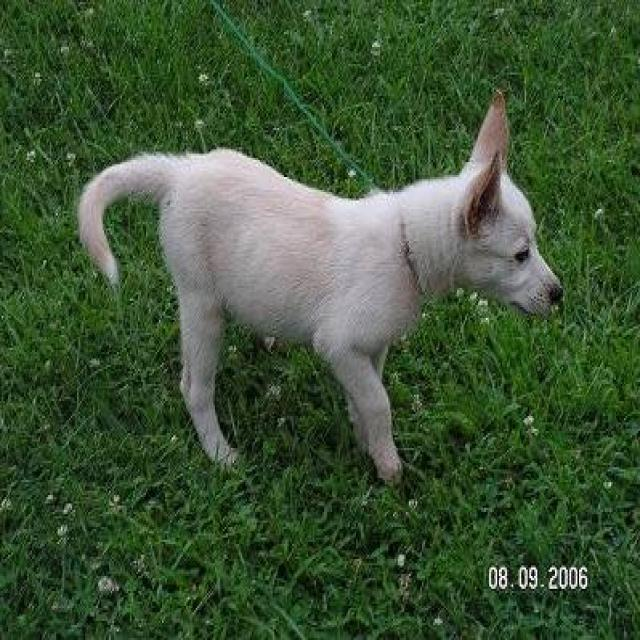dog: (76, 88, 564, 486)
